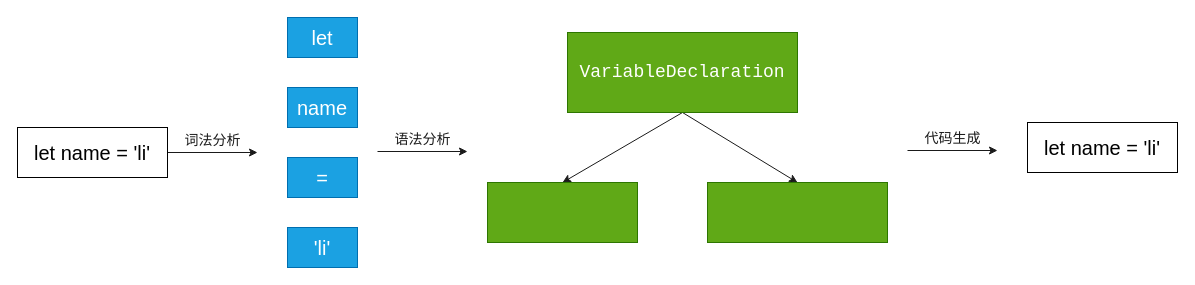
The diagram is 1195 pixels wide and 285 high, and some of its shapes have lost their labels. Each missing label, with the centre of its shape:
Identifier （name）: pixel 562 212
StringLiteral (li): pixel 797 212
